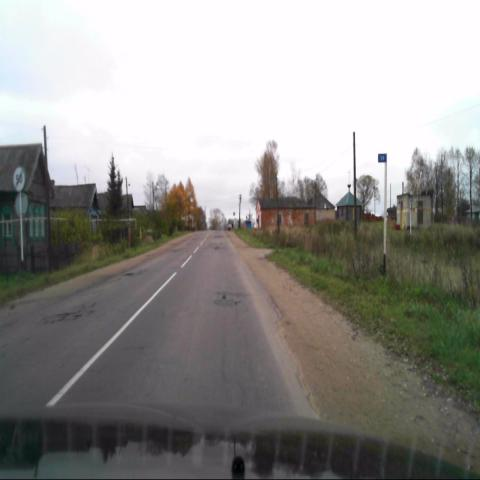3_25: (12, 166, 28, 192)
